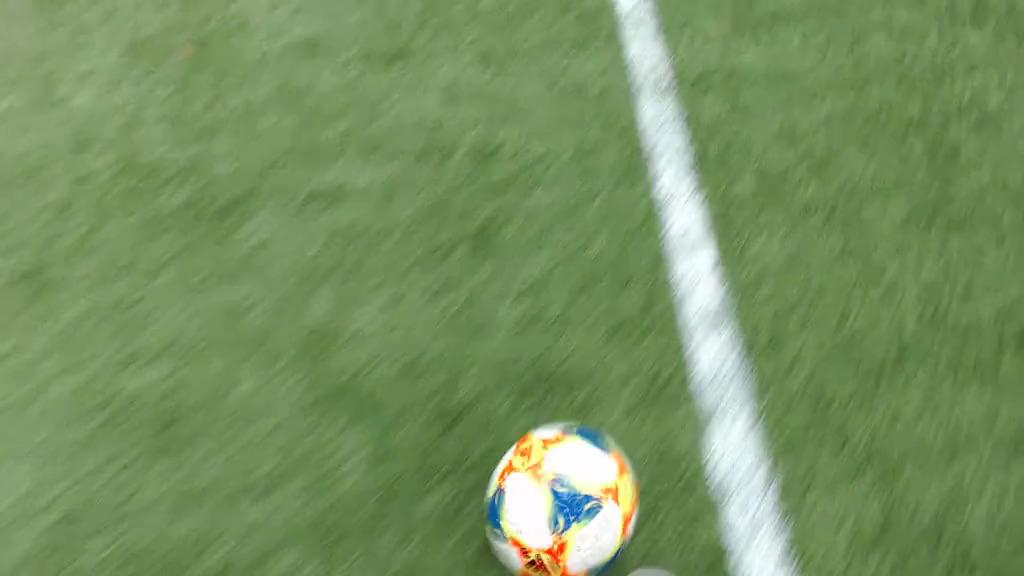ball: (482, 418, 638, 576)
